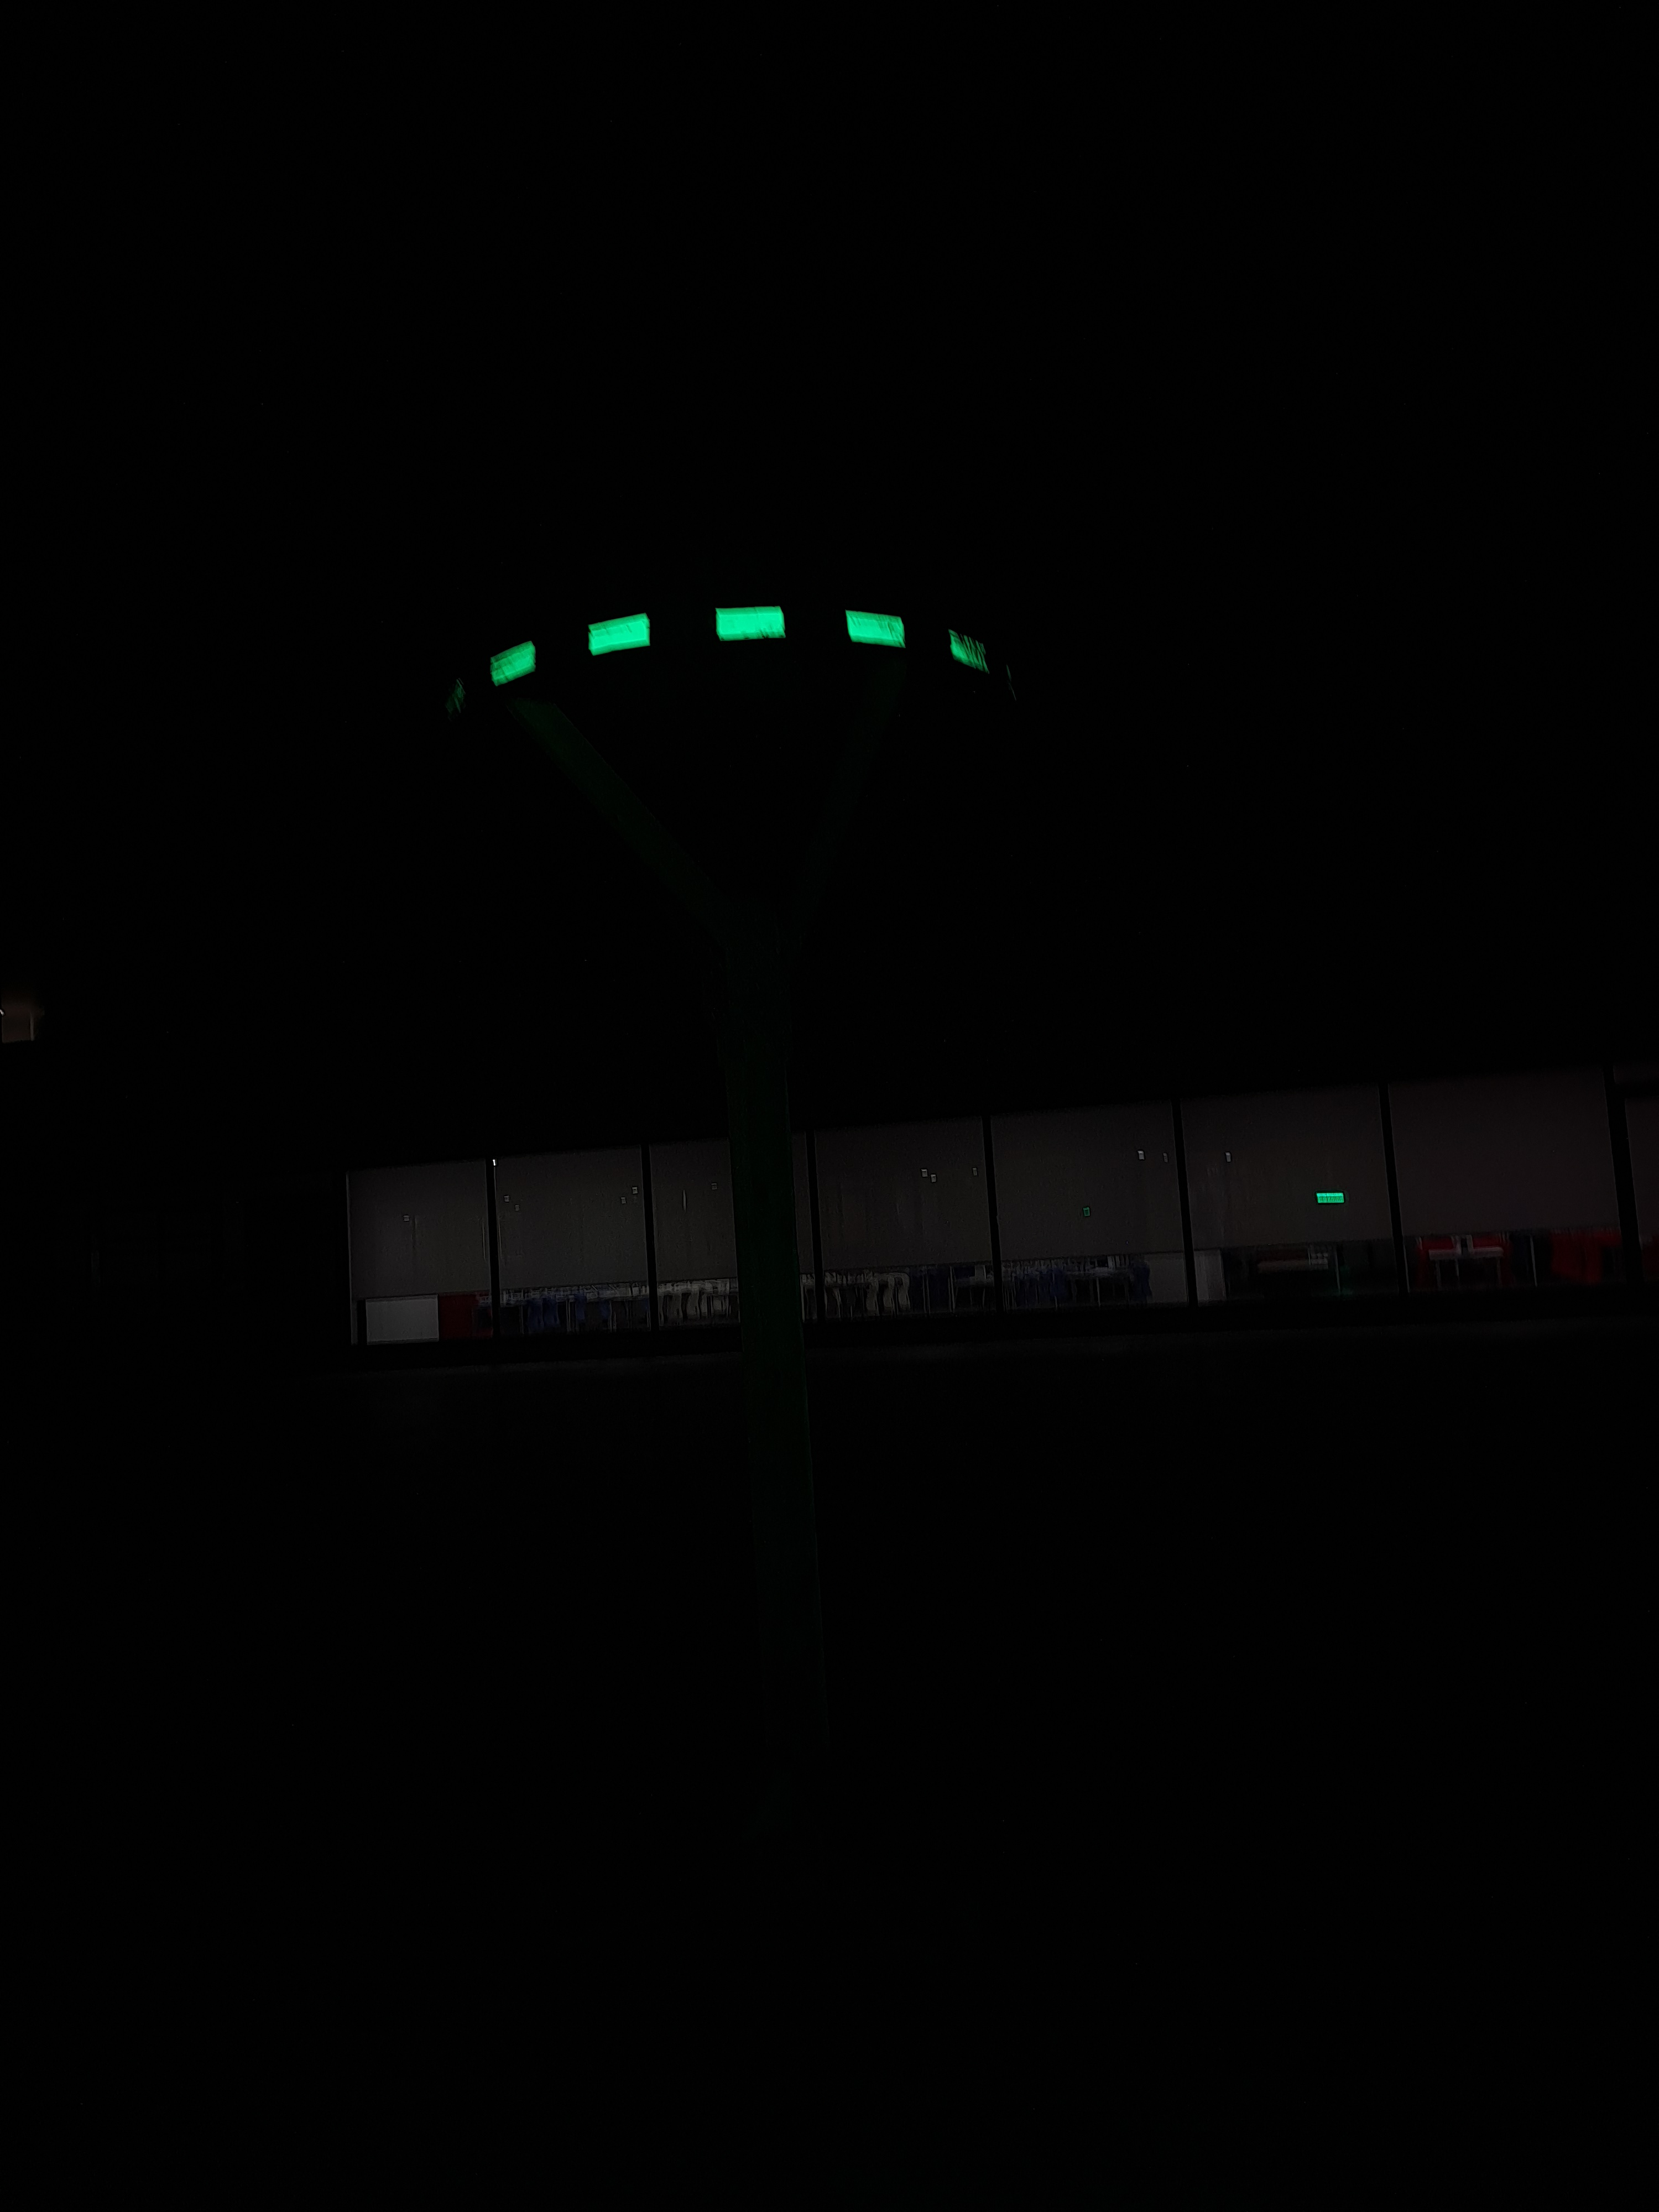hoop: (476, 580, 1004, 695)
